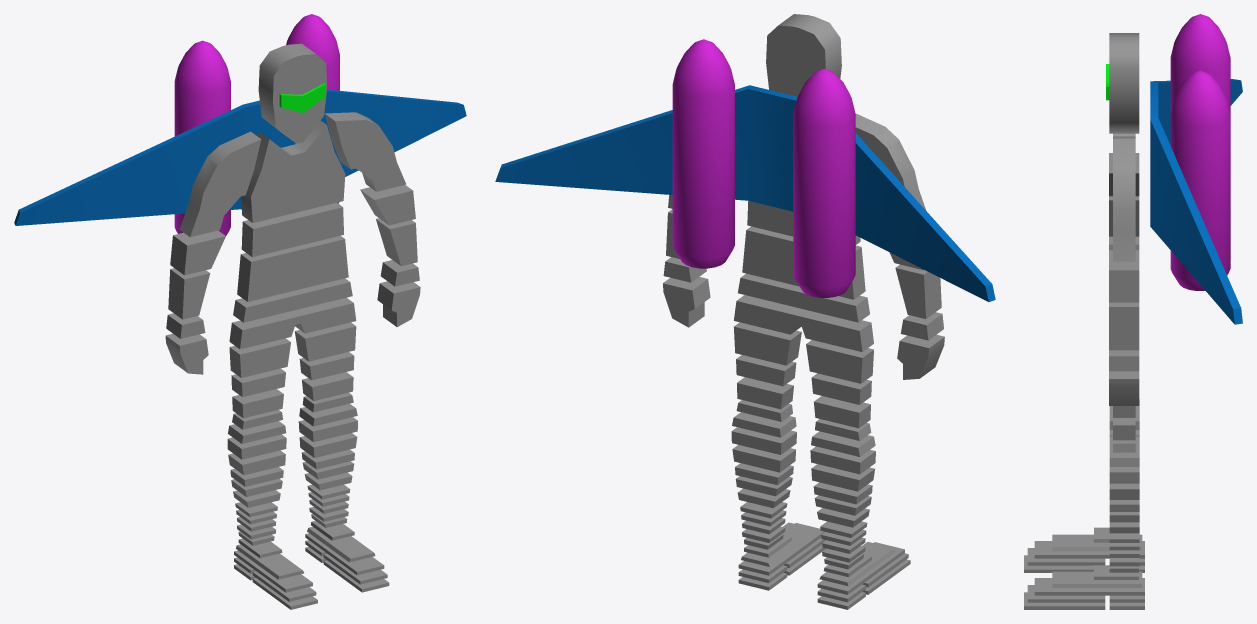
File: Phase_Character.FBX
3 views of the same model, side by side, from view 1: azimuth 30°, elevation 25°; view 2: azimuth 150°, elevation 25°; view 3: azimuth 270°, elevation 25° (orthographic). The views are drawn at different scales.
Parts seen in each view (by area): view 1: Object002; view 2: Object002; view 3: Object002.
Part boxes in pixels (x1,y1,x2,y2): Object002: [14, 14, 466, 609]; Object002: [495, 14, 995, 609]; Object002: [1024, 14, 1242, 609].
Bounding box in the file's own units: 0.8923 × 0.9694 × 0.3526.
